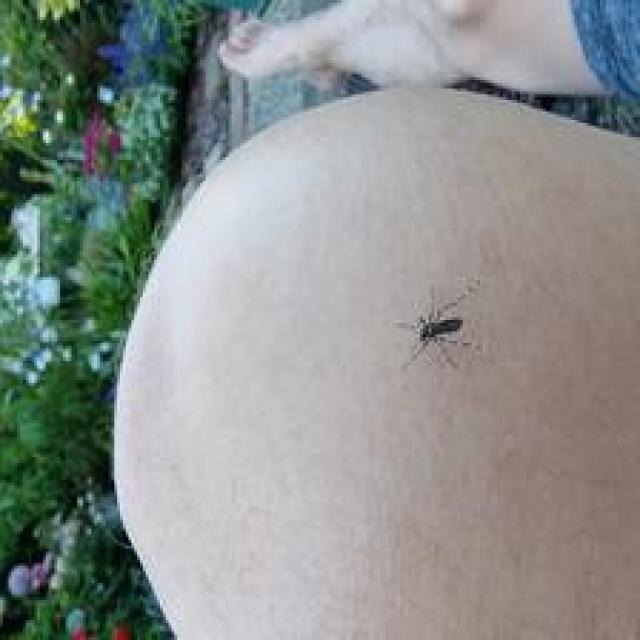Aedes albopictus: (394, 280, 480, 371)
